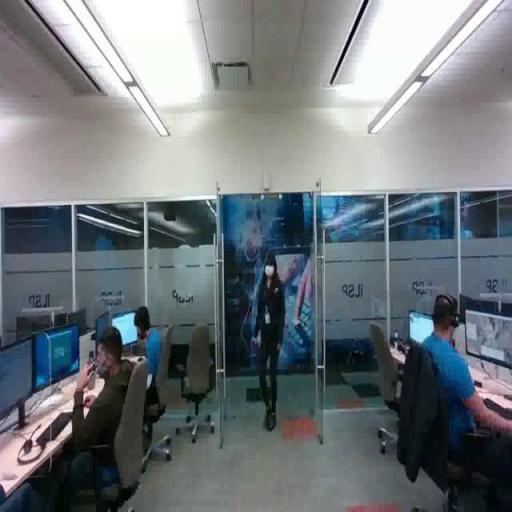person: (398, 290, 512, 487), (64, 323, 141, 507), (252, 256, 289, 433), (126, 303, 172, 444)
